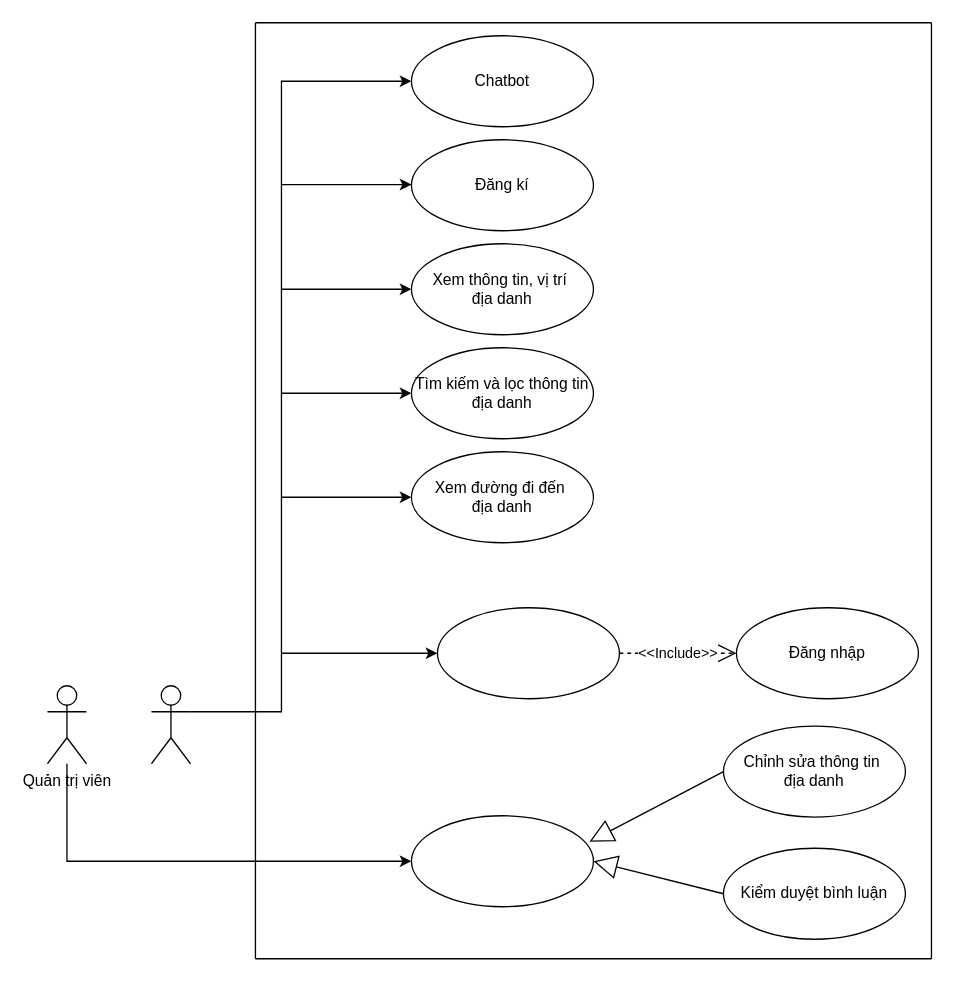
Image size: 955x983. Some labels were removed from this diagram. Here are the shapes that lost their labels. From the top down, the centre of each, then its label:
At pixel 527 652: "Bình luận, đánh giá địa danh".
At pixel 170 724: "Người dùng".
At pixel 501 860: "Quản lý phần mềm".
